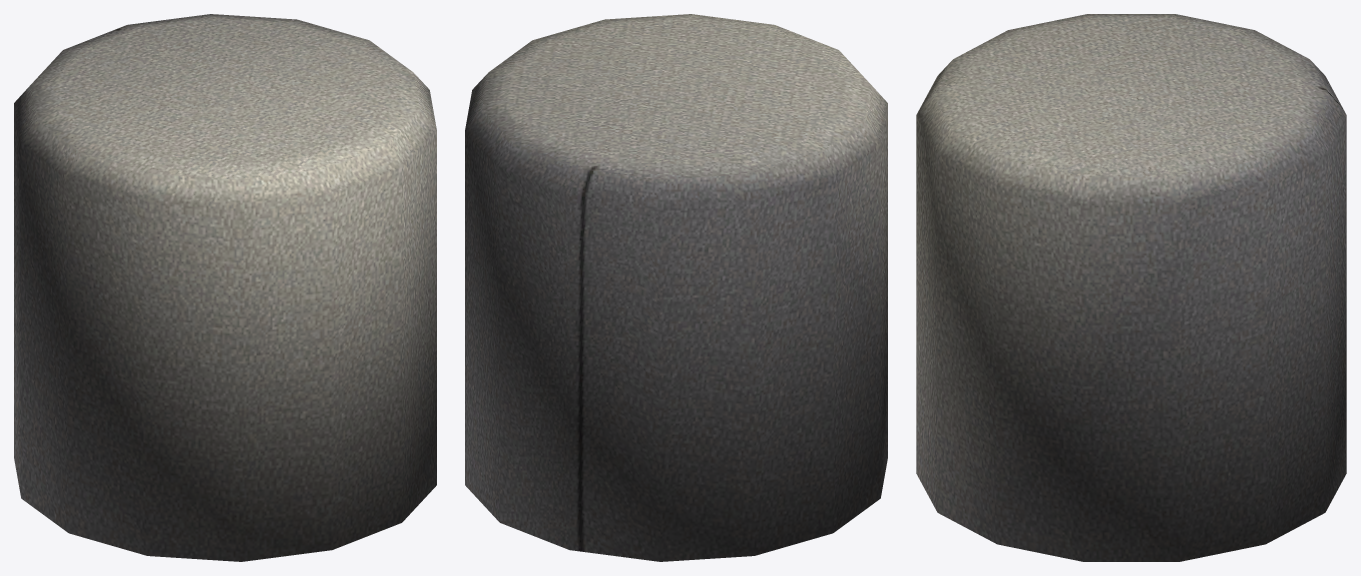
The model's file is SM_Ottoman_Seat_2.FBX.
3 renders of one model, left to right at view 1: azimuth 30°, elevation 25°; view 2: azimuth 150°, elevation 25°; view 3: azimuth 270°, elevation 25°, orthographic.
Parts seen in each view (by area): view 1: SM_Ottoman_Seat_2; view 2: SM_Ottoman_Seat_2; view 3: SM_Ottoman_Seat_2.
Part boxes in pixels (<box>): SM_Ottoman_Seat_2: <box>14,14,436,561</box>; SM_Ottoman_Seat_2: <box>465,14,887,561</box>; SM_Ottoman_Seat_2: <box>916,14,1346,561</box>.
Bounding box in the file's own units: 47.67 × 48.89 × 50.39.
